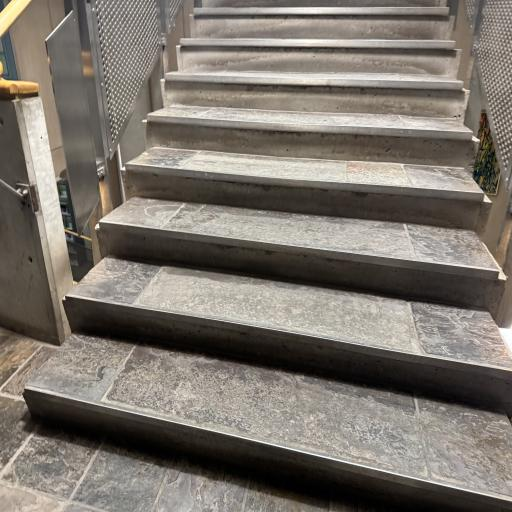Stairs: (24, 0, 512, 512), (24, 334, 512, 512), (64, 234, 512, 414), (98, 197, 506, 314), (123, 147, 491, 233), (144, 105, 479, 170), (162, 71, 468, 119), (176, 38, 460, 78), (190, 7, 454, 40)
